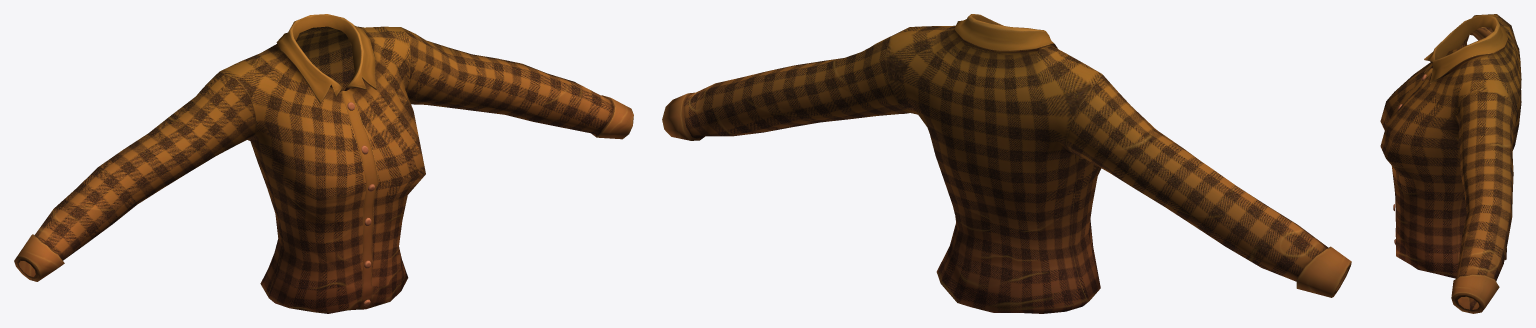
Rendered from shirt1.fbx.
3 renders of one model, left to right at view 1: azimuth 30°, elevation 25°; view 2: azimuth 150°, elevation 25°; view 3: azimuth 270°, elevation 25°, orthographic. The views are drawn at different scales.
Visible parts, largest first — view 1: shirt; view 2: shirt; view 3: shirt.
Boxes of the visible parts, x1,y1,x2,y2 form: shirt: (14,14,633,313); shirt: (662,14,1351,313); shirt: (1380,14,1521,313).
Bounding box in the file's own units: 123 × 50.33 × 27.73.
